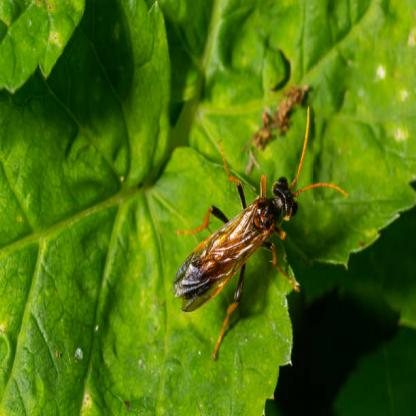sawfly: (172, 108, 351, 359)
